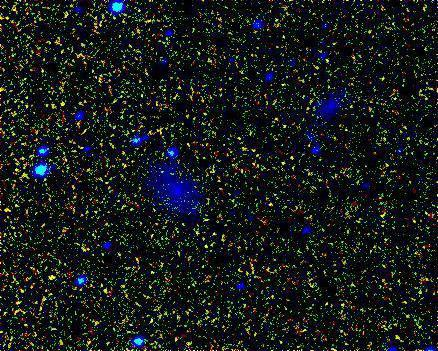star: (36, 261, 66, 291)
